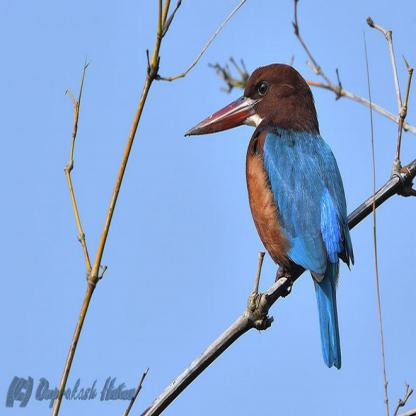Burung: (184, 62, 354, 369)
